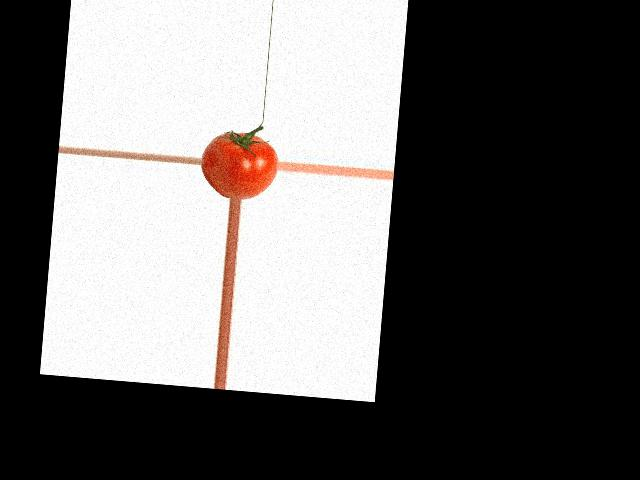tomato: (198, 128, 280, 201)
